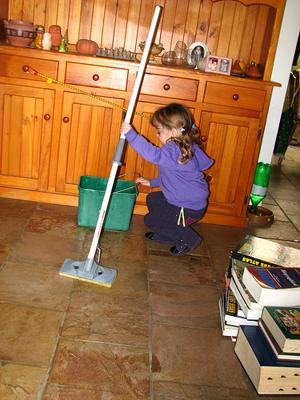person: (120, 102, 215, 257)
